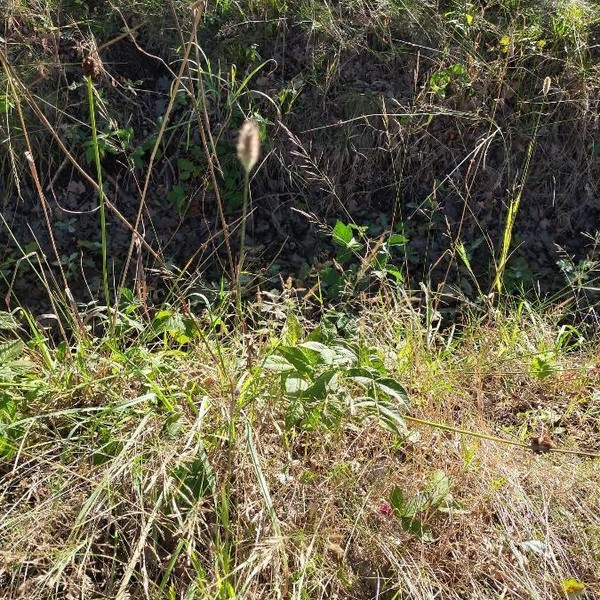obstacle: (219, 261, 436, 485)
